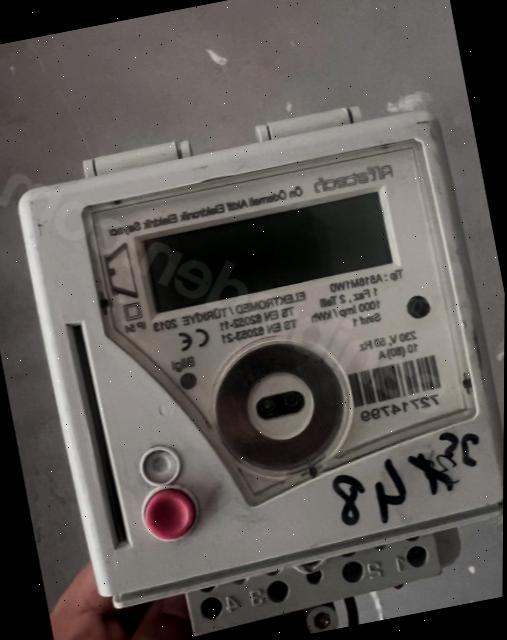electric-meter-detection: (18, 106, 504, 634)
